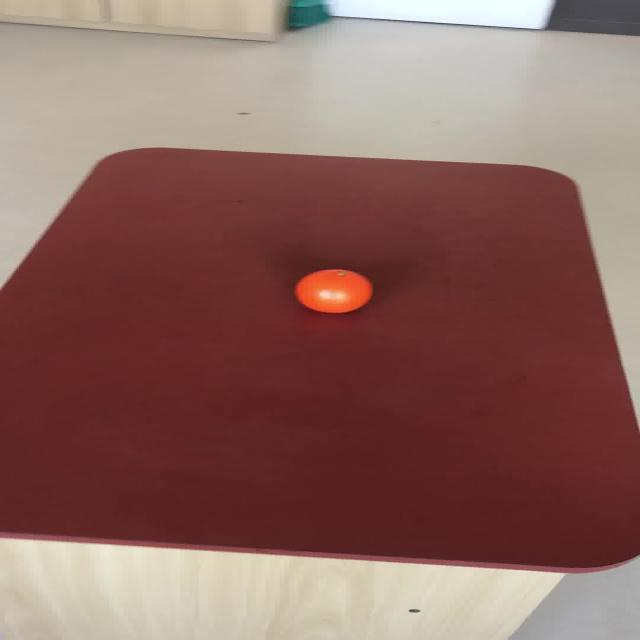orange: (293, 268, 373, 313)
